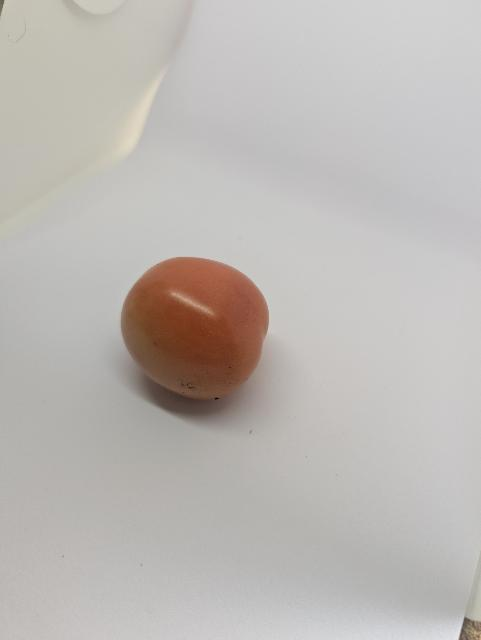red: (114, 258, 283, 410)
